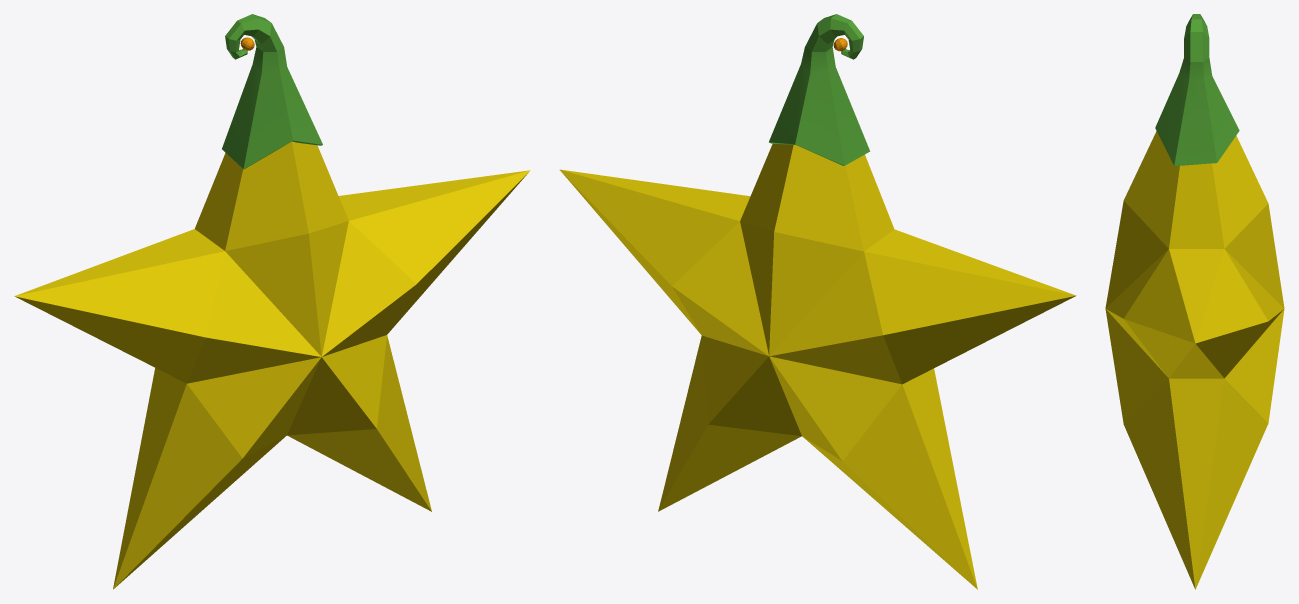
Rendered from Etilius.fbx.
The picture shows the model from 3 angles, left to right: view 1: azimuth 30°, elevation 25°; view 2: azimuth 150°, elevation 25°; view 3: azimuth 270°, elevation 25°; orthographic projection. The views are drawn at different scales.
Parts seen in each view (by area): view 1: pCylinder9, pCone9; view 2: pCylinder9, pCone9; view 3: pCylinder9, pCone9.
Part boxes in pixels (left/top/right/bottom): pCylinder9: left=14, top=141, right=530, bottom=589; pCone9: left=222, top=14, right=322, bottom=169; pCylinder9: left=559, top=144, right=1076, bottom=589; pCone9: left=769, top=14, right=870, bottom=165; pCylinder9: left=1105, top=131, right=1284, bottom=589; pCone9: left=1155, top=14, right=1239, bottom=166.
Size of the model in its own units: 5.3 by 5.28 by 1.74.
